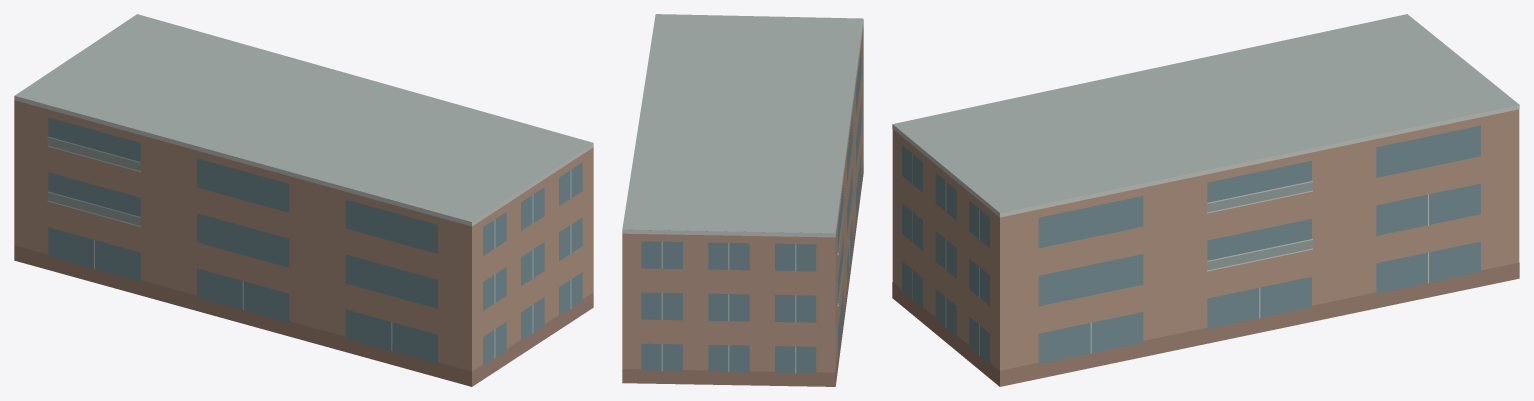
File: survey-upis-32708370.glb
3 views of the same model, side by side, from view 1: azimuth 30°, elevation 25°; view 2: azimuth 150°, elevation 25°; view 3: azimuth 270°, elevation 25° (orthographic). The views are drawn at different scales.
Parts seen in each view (by area): view 1: survey-upis-32708370.tmp; view 2: survey-upis-32708370.tmp; view 3: survey-upis-32708370.tmp.
Part boxes in pixels (x1=…): survey-upis-32708370.tmp: x1=14, y1=14, x2=593, y2=386; survey-upis-32708370.tmp: x1=622, y1=14, x2=863, y2=386; survey-upis-32708370.tmp: x1=892, y1=14, x2=1519, y2=386.
Size of the model in its own units: 22.45 by 9.15 by 29.9.
